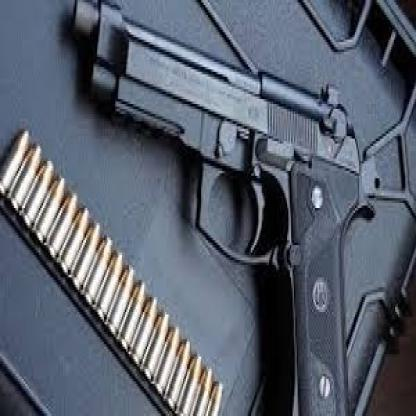Pistol: (74, 5, 384, 404)
